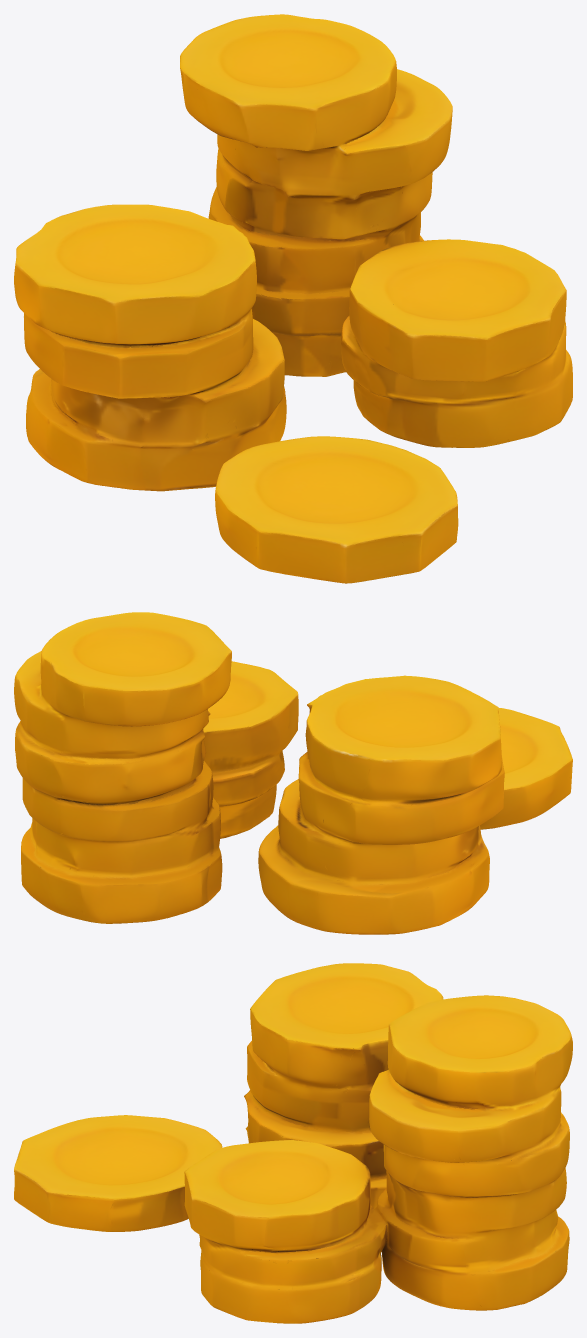
File: base_basic_shaded.fbx
3 views of the same model, one above another, from view 1: azimuth 30°, elevation 25°; view 2: azimuth 150°, elevation 25°; view 3: azimuth 270°, elevation 25° (orthographic). The views are drawn at different scales.
Visible parts, largest first — view 1: model; view 2: model; view 3: model.
Boxes of the visible parts, x1,y1,x2,y2 form: model: [14, 14, 572, 583]; model: [14, 612, 572, 934]; model: [14, 963, 572, 1323].
Size of the model in its own units: 162 by 87.39 by 191.
